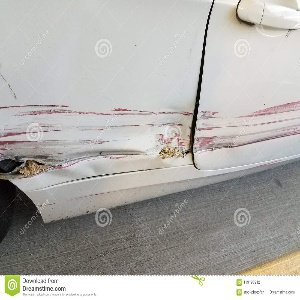door_scratch: (180, 97, 289, 158)
